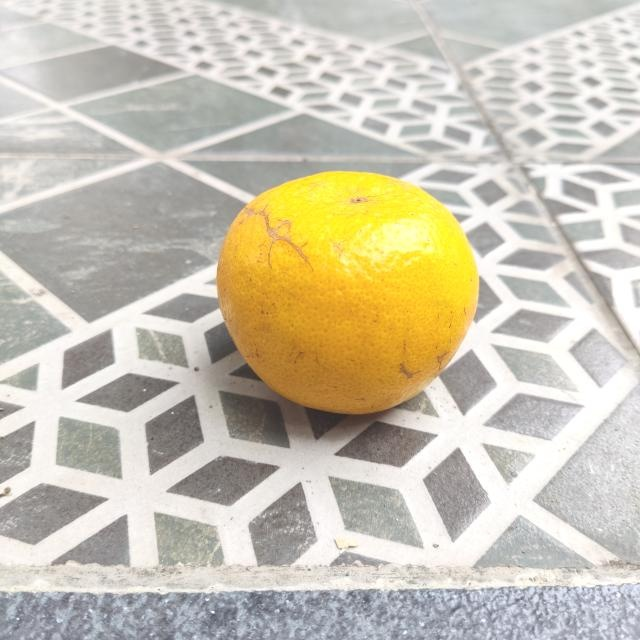agrume: (214, 168, 482, 416)
